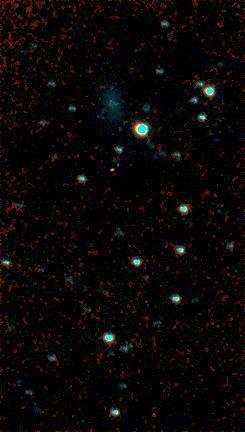star: (93, 153, 123, 183)
